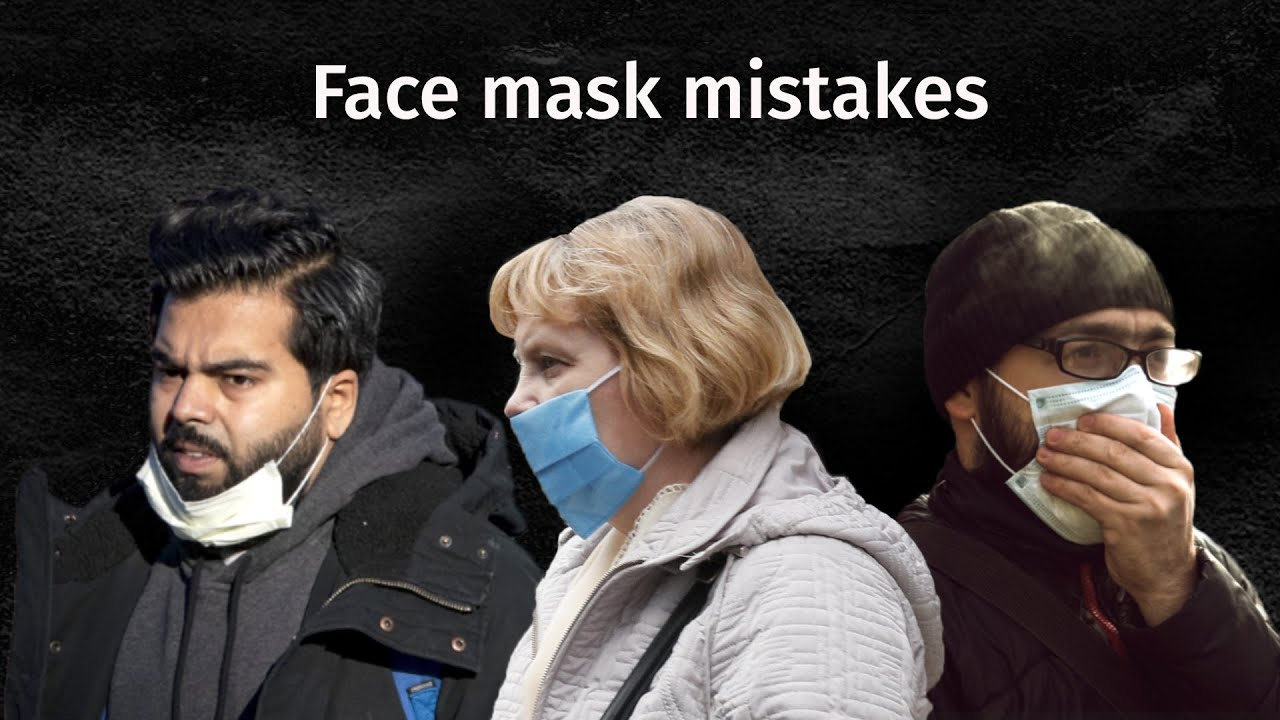with_incorrect_mask: (494, 321, 652, 513)
with_mask: (972, 304, 1203, 540)
without_mask: (141, 299, 292, 529)
